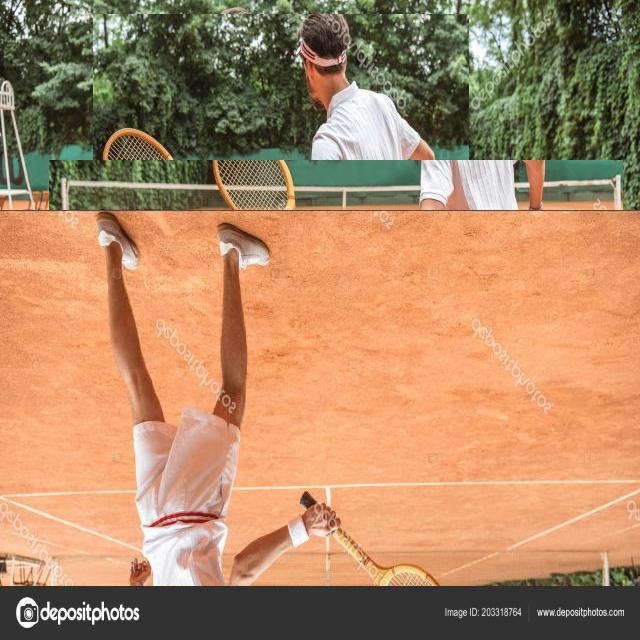court: (0, 210, 640, 586)
net: (49, 160, 623, 260)
player: (93, 14, 469, 584)
